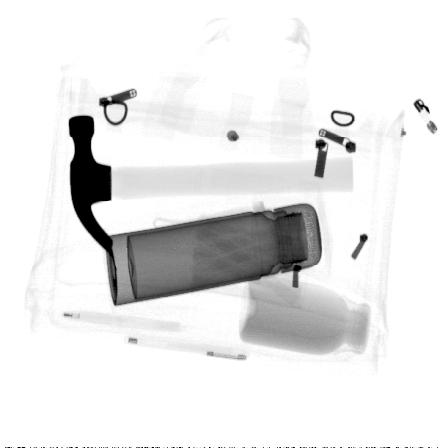Hammer: (68, 115, 355, 255)
